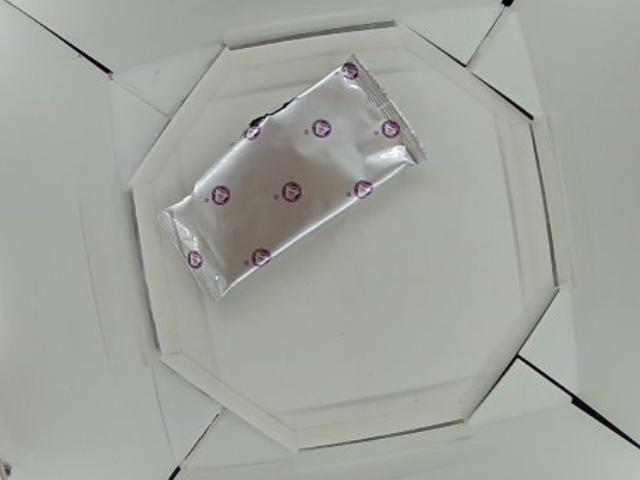Medicine: (153, 49, 428, 305)
